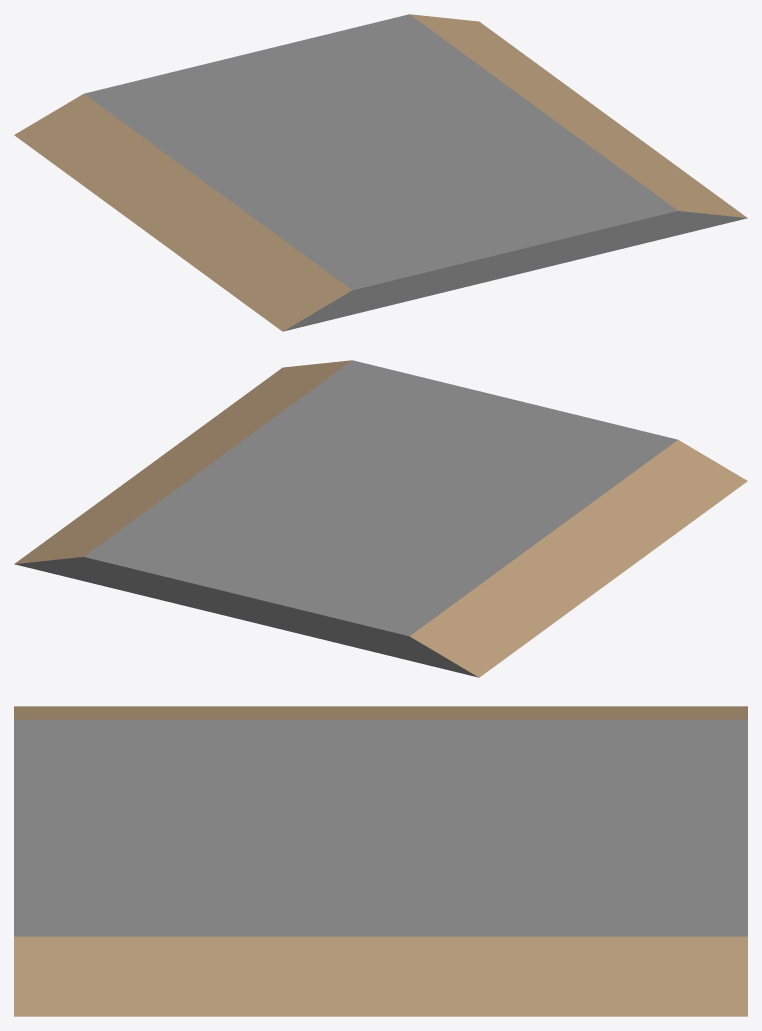
Rendered from SM_Path_Short.fbx.
3 views of the same model, one above another, from view 1: azimuth 30°, elevation 25°; view 2: azimuth 150°, elevation 25°; view 3: azimuth 270°, elevation 25° (orthographic). The views are drawn at different scales.
Visible parts, largest first — view 1: SM_Path_Short; view 2: SM_Path_Short; view 3: SM_Path_Short.
Part boxes in pixels (x1=…): SM_Path_Short: x1=14, y1=14, x2=747, y2=331; SM_Path_Short: x1=14, y1=360, x2=747, y2=677; SM_Path_Short: x1=14, y1=706, x2=747, y2=1016.
Bounding box in the file's own units: 144 × 7.2 × 144.
